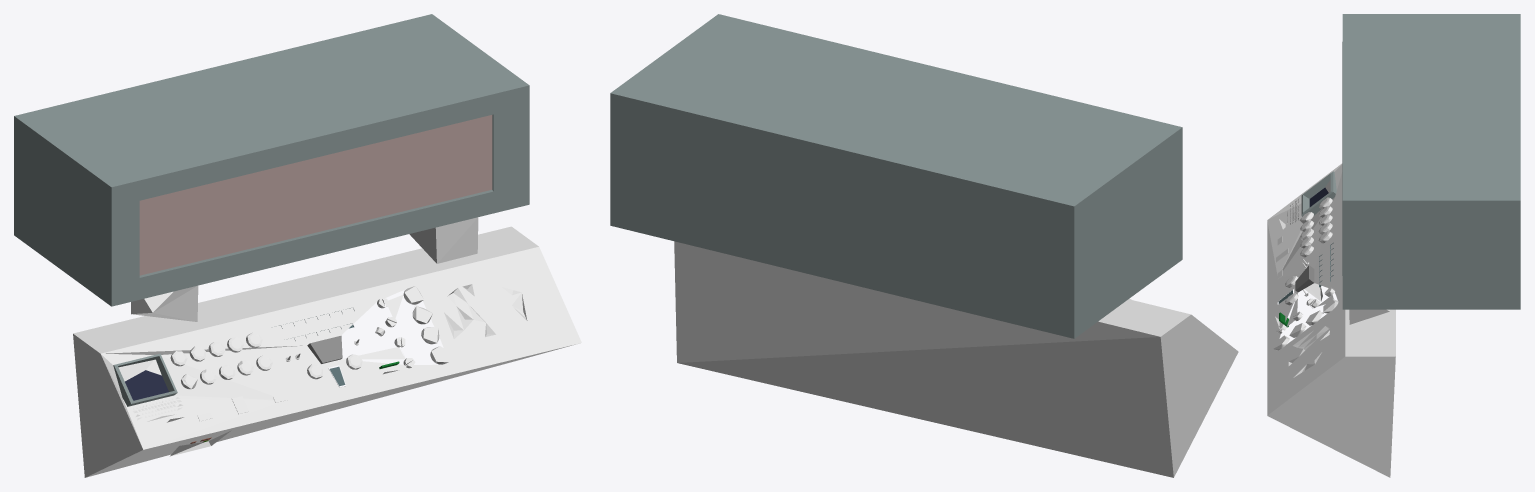
File: sf_main_laboratory_computer_bank.glb
3 renders of one model, left to right at view 1: azimuth 30°, elevation 25°; view 2: azimuth 150°, elevation 25°; view 3: azimuth 270°, elevation 25°, orthographic. The views are drawn at different scales.
Visible parts, largest first — view 1: Material_012.002, Material_004.005, Material.018, Material_005.005, Material_010.002, Material_006.005, Material_013.002, Material_001_001.001; view 2: Material_012.002, Material_004.005; view 3: Material_012.002, Material_004.005, Material_005.005, Material_010.002, Material_006.005, Material_001_001.001.
Boxes of the visible parts, x1,y1,x2,y2 form: Material_012.002: [14, 14, 529, 406]; Material_004.005: [73, 217, 581, 477]; Material.018: [139, 115, 492, 275]; Material_005.005: [170, 286, 448, 456]; Material_010.002: [170, 332, 362, 379]; Material_006.005: [181, 299, 413, 389]; Material_013.002: [125, 370, 168, 400]; Material_001_001.001: [307, 335, 342, 363]; Material_012.002: [610, 14, 1182, 338]; Material_004.005: [674, 241, 1238, 477]; Material_012.002: [1301, 14, 1520, 309]; Material_004.005: [1267, 163, 1395, 477]; Material_005.005: [1273, 236, 1338, 350]; Material_010.002: [1285, 197, 1332, 305]; Material_006.005: [1278, 212, 1331, 330]; Material_001_001.001: [1295, 265, 1314, 292].
Bounding box in the file's own units: 2.13 × 1.4 × 1.17.
